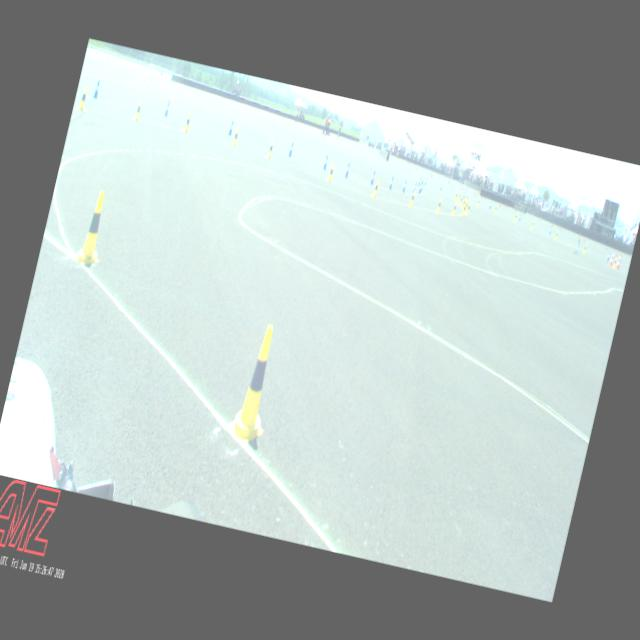blue_cone: (93, 80, 101, 98), (163, 100, 170, 116), (370, 169, 376, 185), (344, 161, 350, 177), (322, 154, 328, 170), (288, 140, 294, 156), (388, 175, 394, 190), (401, 178, 407, 192), (228, 120, 234, 134), (412, 182, 417, 194), (419, 182, 423, 192), (418, 184, 422, 194), (605, 252, 609, 261), (418, 177, 422, 186), (518, 212, 522, 220), (439, 182, 443, 190), (548, 226, 552, 234), (488, 201, 492, 208), (462, 190, 465, 198), (420, 178, 422, 186), (424, 177, 426, 184)
large_orange_cone: (608, 248, 616, 265), (614, 252, 622, 269)
yellow_cone: (228, 322, 284, 442), (76, 188, 112, 264), (78, 86, 89, 110), (182, 112, 192, 132), (134, 99, 142, 120), (371, 178, 379, 196), (266, 140, 274, 158), (326, 163, 334, 181), (231, 128, 239, 144), (408, 190, 414, 207), (436, 197, 442, 212), (452, 201, 457, 214), (466, 202, 471, 214), (461, 204, 466, 216), (612, 255, 616, 268), (582, 243, 587, 253), (464, 199, 468, 211), (462, 198, 466, 208), (554, 231, 558, 240), (530, 220, 534, 228), (454, 192, 458, 200), (514, 212, 518, 220), (458, 196, 462, 204), (493, 205, 497, 212), (458, 192, 462, 199), (476, 198, 480, 205), (465, 194, 468, 202)
